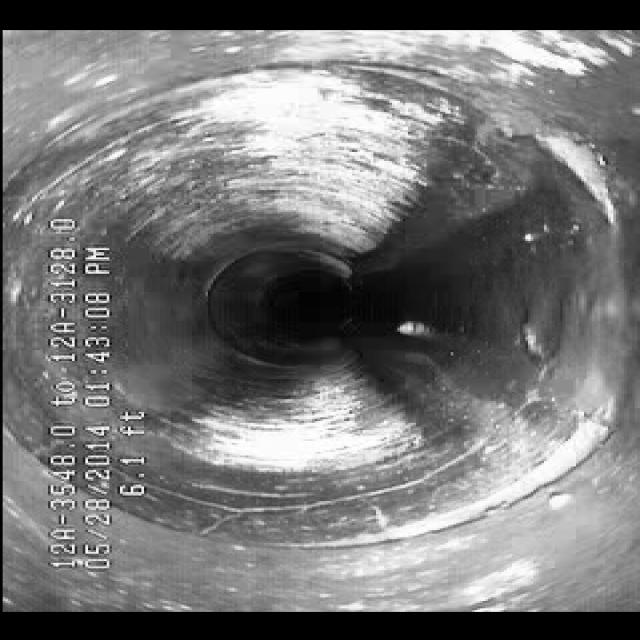Crack: (146, 434, 512, 532)
